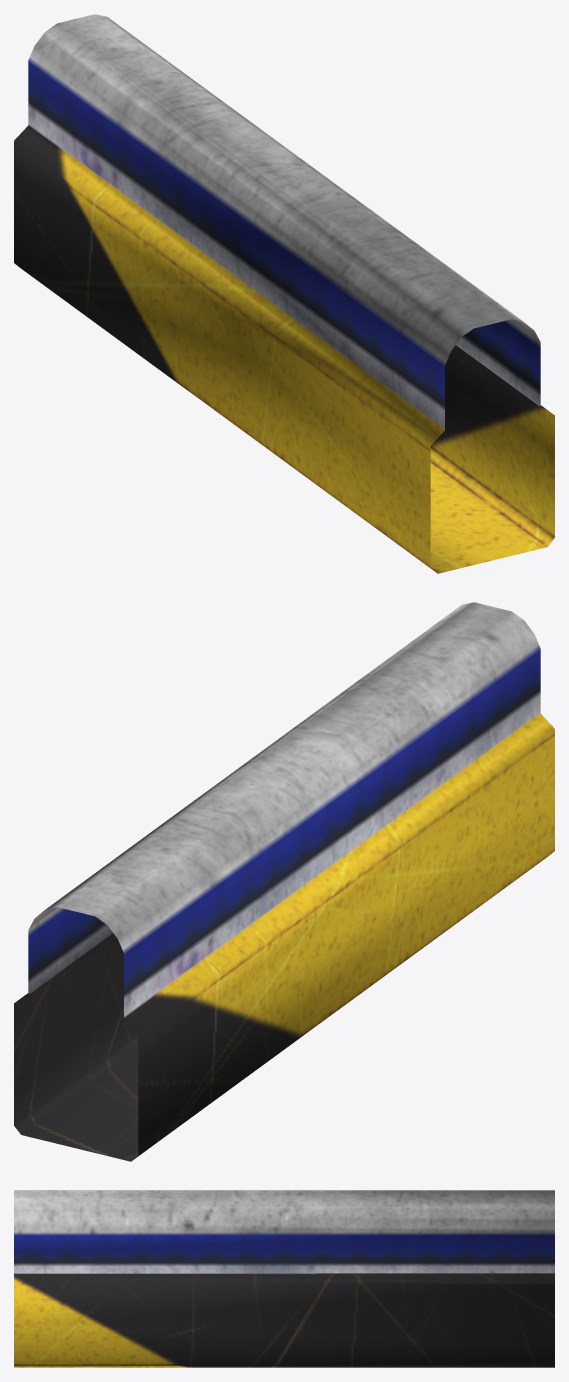
The model's file is Ob_GrindRail02_RC.fbx.
The picture shows the model from 3 angles, top to bottom: view 1: azimuth 30°, elevation 25°; view 2: azimuth 150°, elevation 25°; view 3: azimuth 270°, elevation 25°; orthographic projection. The views are drawn at different scales.
Parts seen in each view (by area): view 1: Ob_GrindRail02_RC; view 2: Ob_GrindRail02_RC; view 3: Ob_GrindRail02_RC.
Boxes of the visible parts, <box> form: Ob_GrindRail02_RC: <box>14,14,554,573</box>; Ob_GrindRail02_RC: <box>14,602,554,1161</box>; Ob_GrindRail02_RC: <box>14,1190,554,1367</box>.
Bounding box in the file's own units: 34.44 × 62.67 × 200.
